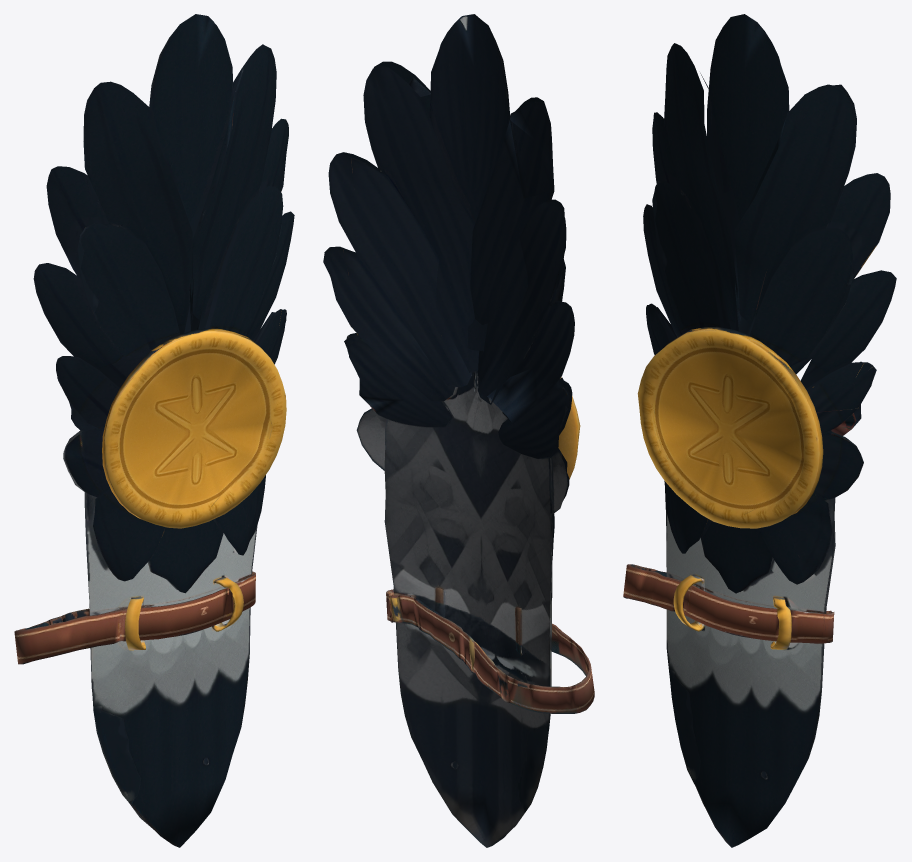
The model's file is magpies-hoard-bracer-r2_refine.glb.
The picture shows the model from 3 angles, left to right: view 1: azimuth 30°, elevation 25°; view 2: azimuth 150°, elevation 25°; view 3: azimuth 330°, elevation 25°; orthographic projection.
Size of the model in its own units: 0.3252 by 0.9512 by 0.1167.
Materials: 1 (1 with a texture image).
